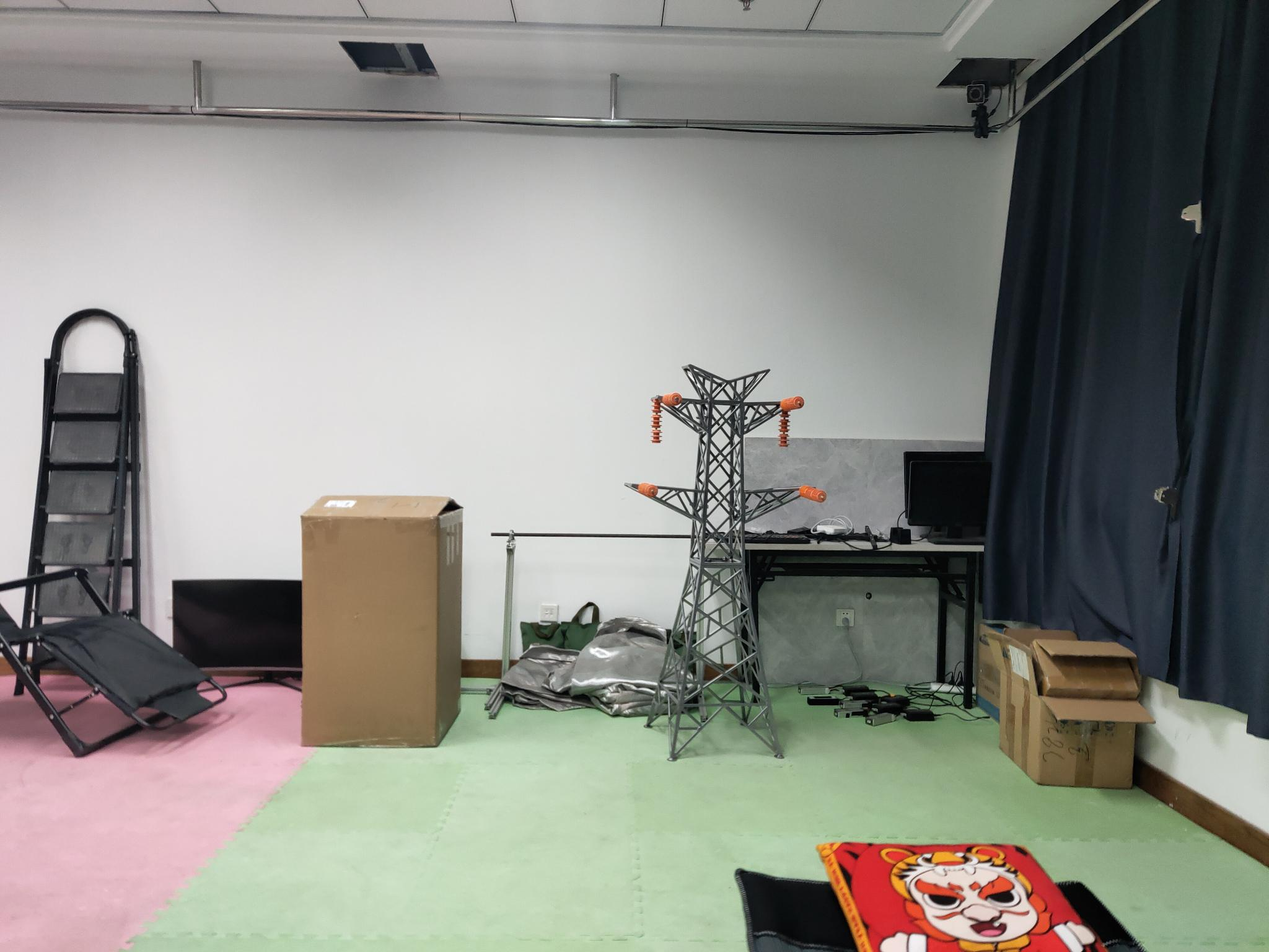tower: (625, 364, 793, 760)
